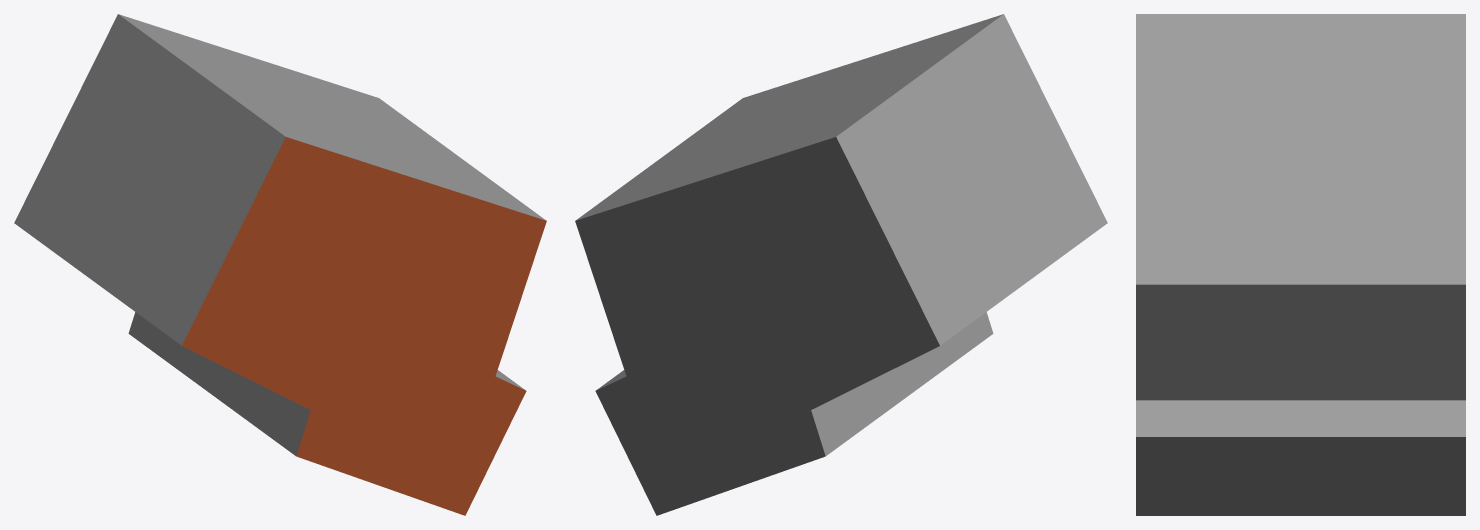
Rendered from construction_4558_assumed_A_Casa_h6m.obj.
3 views of the same model, side by side, from view 1: azimuth 30°, elevation 25°; view 2: azimuth 150°, elevation 25°; view 3: azimuth 270°, elevation 25° (orthographic).
Parts seen in each view (by area): view 1: construction_4558_assumed_A_Casa; view 2: construction_4558_assumed_A_Casa; view 3: construction_4558_assumed_A_Casa.
Boxes of the visible parts, x1,y1,x2,y2 form: construction_4558_assumed_A_Casa: [14, 14, 546, 515]; construction_4558_assumed_A_Casa: [575, 14, 1107, 515]; construction_4558_assumed_A_Casa: [1136, 14, 1465, 515].
Size of the model in its own units: 7.54 by 8.34 by 6.
